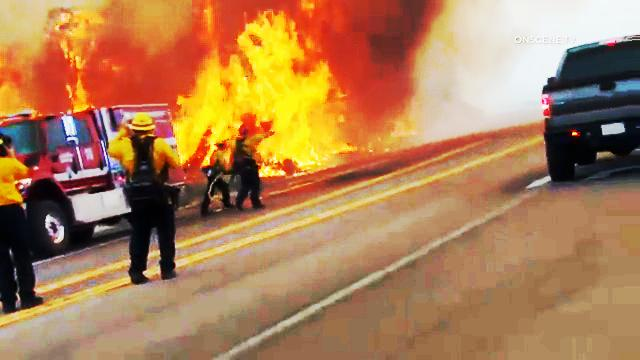fire: (179, 0, 333, 170), (33, 6, 120, 109)
smoke: (383, 6, 520, 85)
